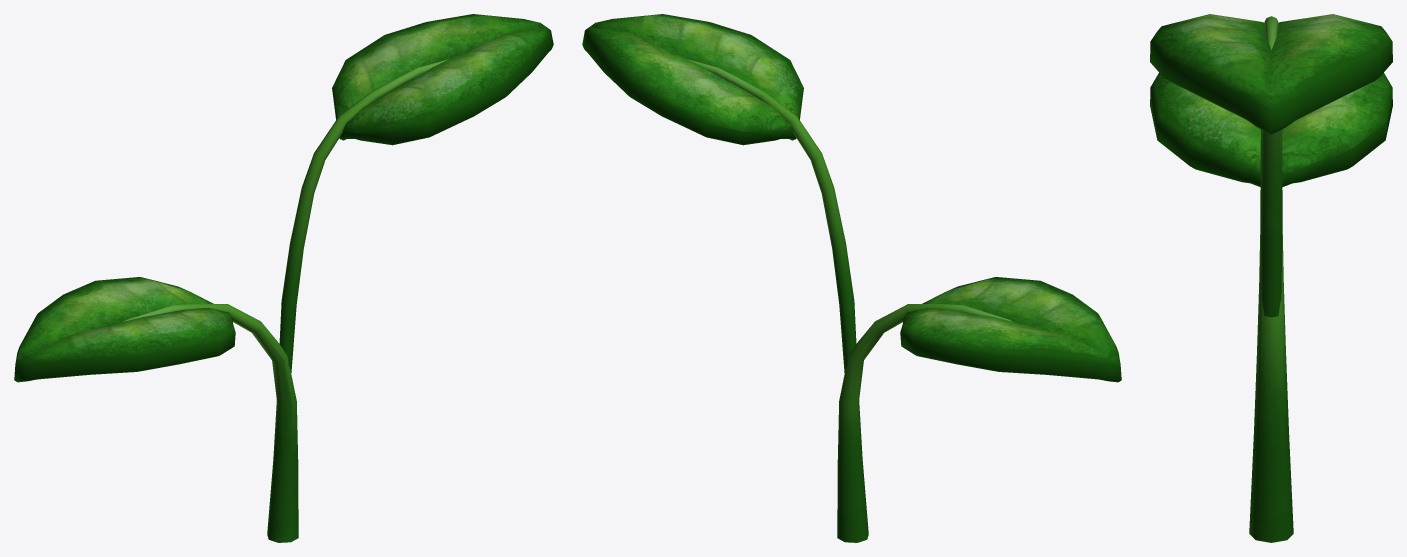
File: Plantinha1.fbx
3 renders of one model, left to right at view 1: azimuth 30°, elevation 25°; view 2: azimuth 150°, elevation 25°; view 3: azimuth 270°, elevation 25°, orthographic. The views are drawn at different scales.
Visible parts, largest first — view 1: Folhas1; view 2: Folhas1; view 3: Folhas1.
Boxes of the visible parts, x1,y1,x2,y2 form: Folhas1: [14, 14, 553, 542]; Folhas1: [582, 14, 1121, 542]; Folhas1: [1150, 14, 1392, 542].
Size of the model in its own units: 327 by 264 by 93.39.
